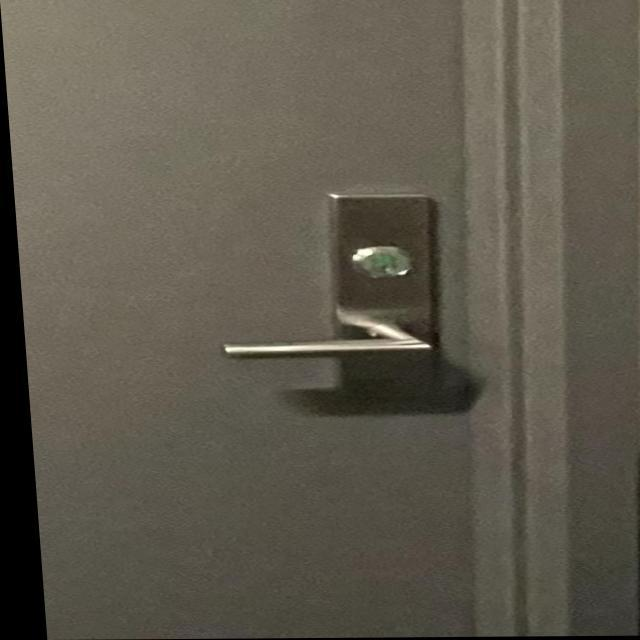door_handle: (197, 309, 460, 374)
